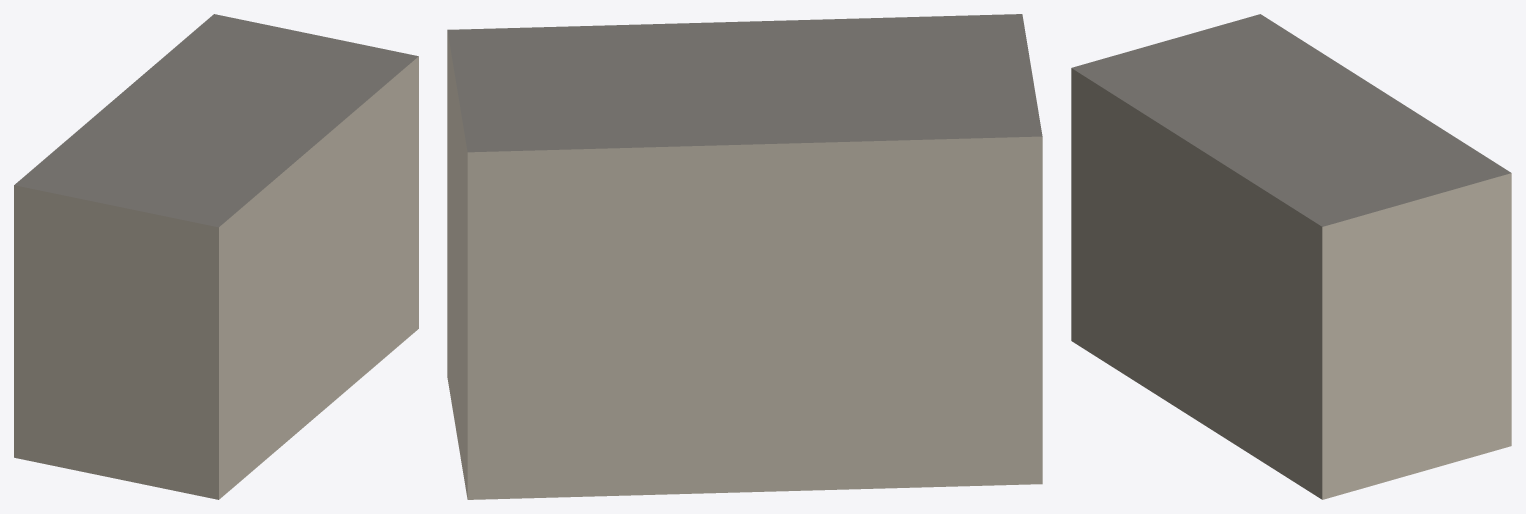
3 views of the same model, side by side, from view 1: azimuth 30°, elevation 25°; view 2: azimuth 150°, elevation 25°; view 3: azimuth 270°, elevation 25° (orthographic). The views are drawn at different scales.
Visible parts, largest first — view 1: HP-w859488776; view 2: HP-w859488776; view 3: HP-w859488776.
Boxes of the visible parts, <box> form: HP-w859488776: <box>14,14,418,499</box>; HP-w859488776: <box>447,14,1042,499</box>; HP-w859488776: <box>1071,14,1511,499</box>.
Bounding box in the file's own units: 30.11 × 18 × 26.32.
